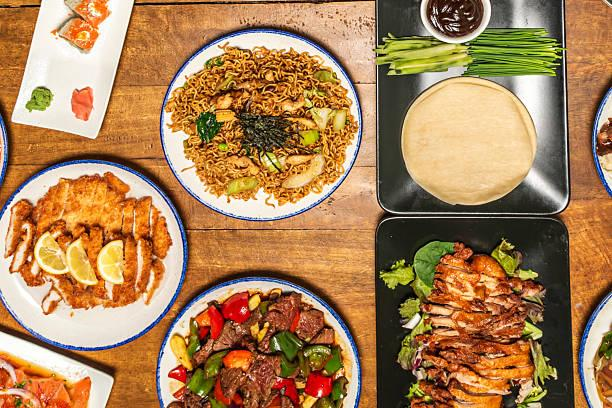Braised Crucian Carp: (375, 3, 567, 217), (373, 214, 578, 407), (158, 28, 360, 222), (0, 159, 187, 349), (155, 276, 360, 408), (9, 1, 138, 138)
